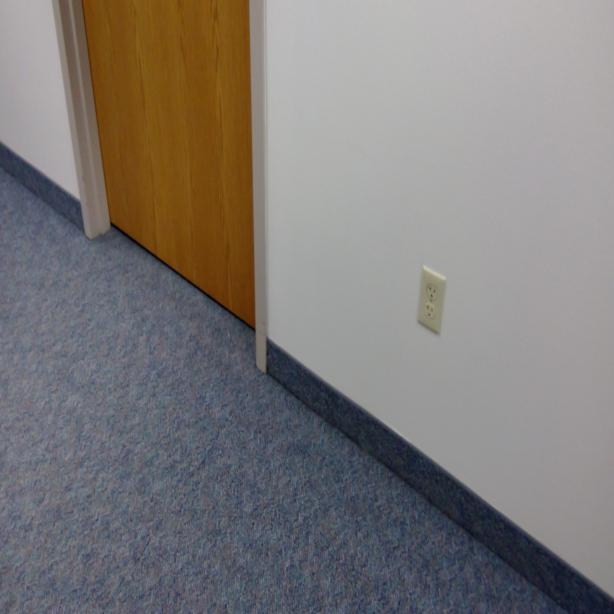typeb: (426, 280, 438, 304), (425, 304, 435, 320)
